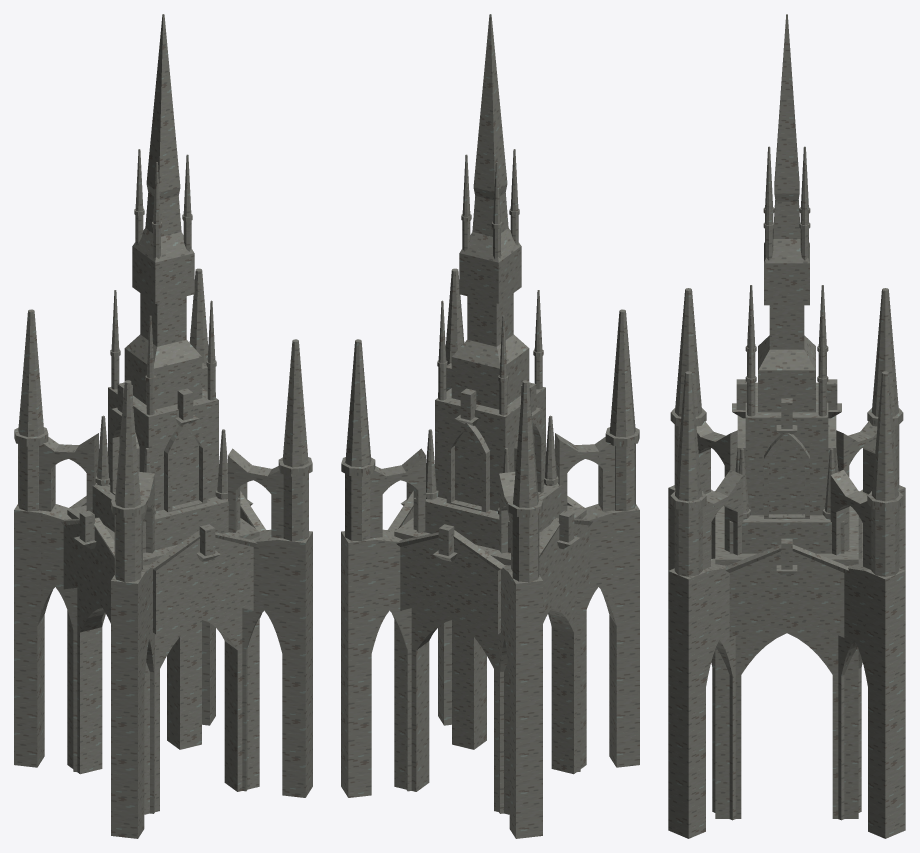
The model's file is catherdral_tower_test.glb.
3 views of the same model, side by side, from view 1: azimuth 30°, elevation 25°; view 2: azimuth 150°, elevation 25°; view 3: azimuth 270°, elevation 25° (orthographic).
Visible parts, largest first — view 1: Cube.025-col; view 2: Cube.025-col; view 3: Cube.025-col.
Boxes of the visible parts, x1,y1,x2,y2 form: Cube.025-col: (14,14,312,838); Cube.025-col: (341,14,639,838); Cube.025-col: (668,14,905,838).
Bounding box in the file's own units: 26.53 × 95.51 × 26.53.
Materials: 1 (1 with a texture image).
